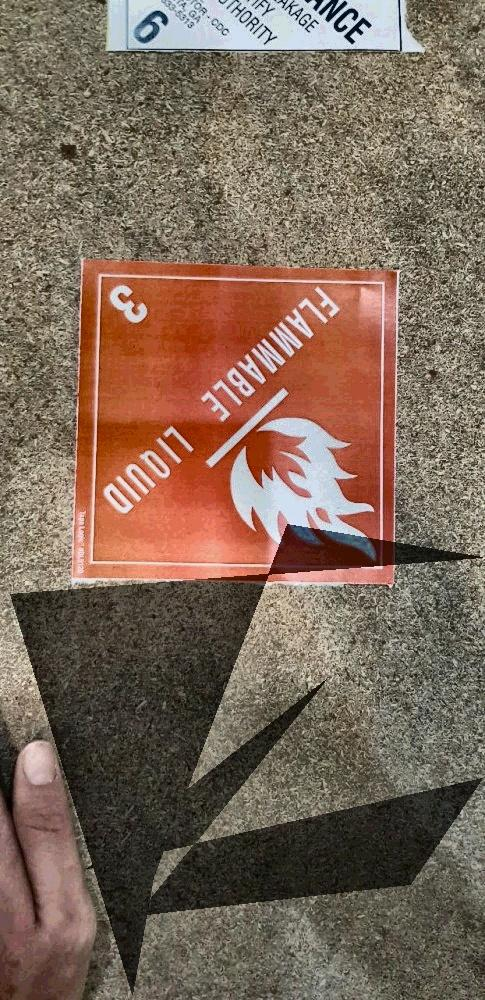flammable: (76, 257, 402, 589)
